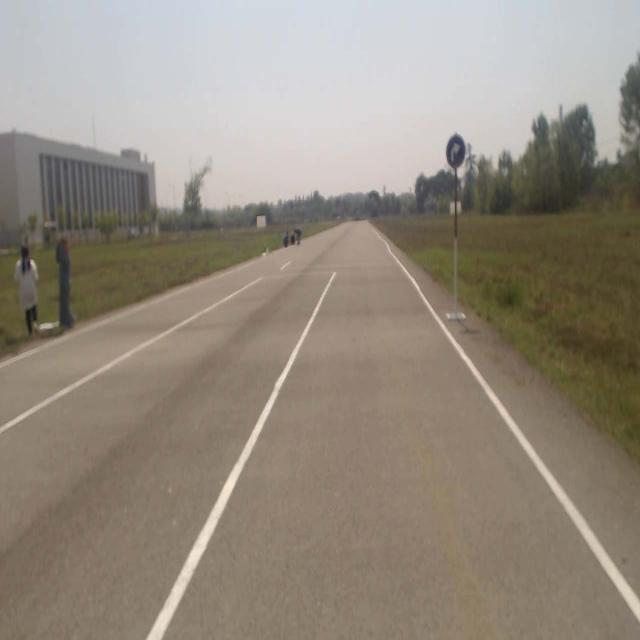sag: (447, 134, 465, 168)
